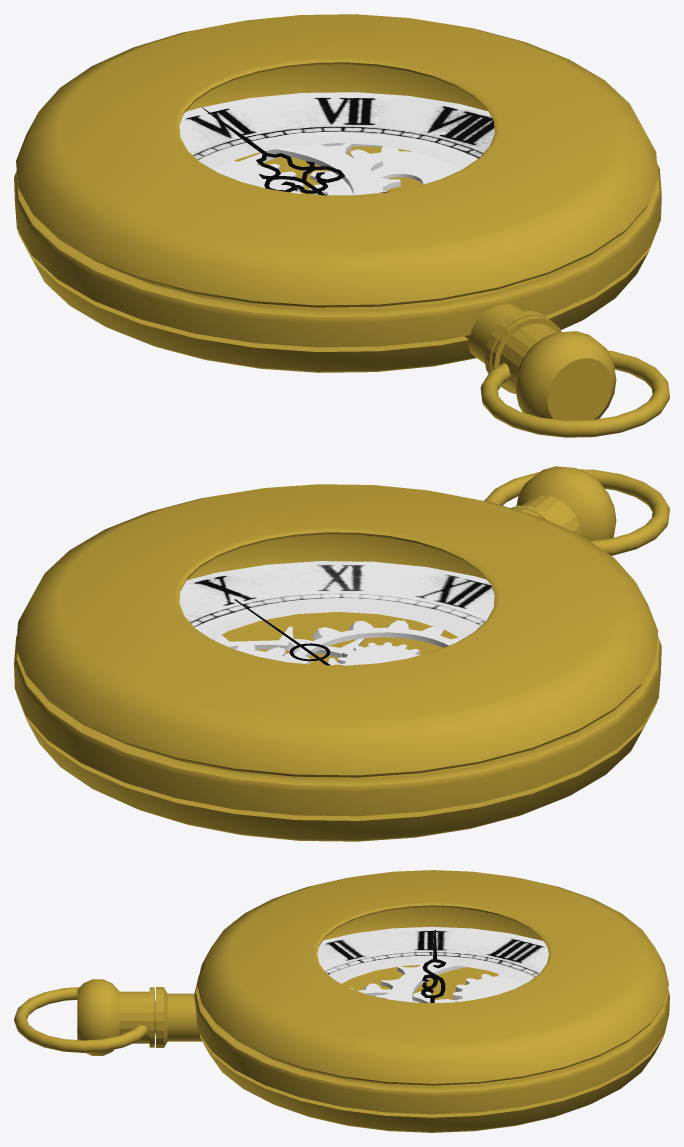
File: PocketWatch.fbx
The picture shows the model from 3 angles, top to bottom: view 1: azimuth 30°, elevation 25°; view 2: azimuth 150°, elevation 25°; view 3: azimuth 270°, elevation 25°; orthographic projection. The views are drawn at different scales.
Visible parts, largest first — view 1: Watch_Cover, Watch_Body, Dial, Decor, Gear3, Gear1, Pointer_01, Gear5; view 2: Watch_Cover, Watch_Body, Dial, Decor, Gear2, Gear6, Gear4, Gear3; view 3: Watch_Cover, Watch_Body, Dial, Decor, Gear1, Gear5, Pointer_02, Gear2.
Part boxes in pixels (<box>): Watch_Cover: <box>16,14,658,307</box>; Watch_Body: <box>14,64,661,372</box>; Dial: <box>179,92,494,169</box>; Decor: <box>464,304,669,437</box>; Gear3: <box>309,146,460,195</box>; Gear1: <box>259,143,400,195</box>; Pointer_01: <box>202,107,344,195</box>; Gear5: <box>214,159,303,193</box>; Watch_Cover: <box>16,484,658,777</box>; Watch_Body: <box>14,534,661,841</box>; Dial: <box>179,561,494,639</box>; Decor: <box>484,466,669,555</box>; Gear2: <box>284,620,461,658</box>; Gear6: <box>338,642,420,665</box>; Gear4: <box>213,626,364,657</box>; Gear3: <box>234,643,311,664</box>; Watch_Cover: <box>197,870,668,1085</box>; Watch_Body: <box>194,906,669,1132</box>; Dial: <box>317,926,548,984</box>; Decor: <box>14,979,202,1055</box>; Gear1: <box>375,964,467,1002</box>; Gear5: <box>453,974,522,1002</box>; Pointer_02: <box>421,930,445,1002</box>; Gear2: <box>349,983,451,1003</box>.
Bounding box in the file's own units: 15 × 3.48 × 20.67.
